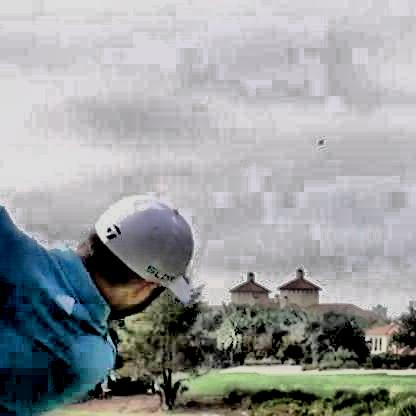golfball: (314, 135, 321, 142)
